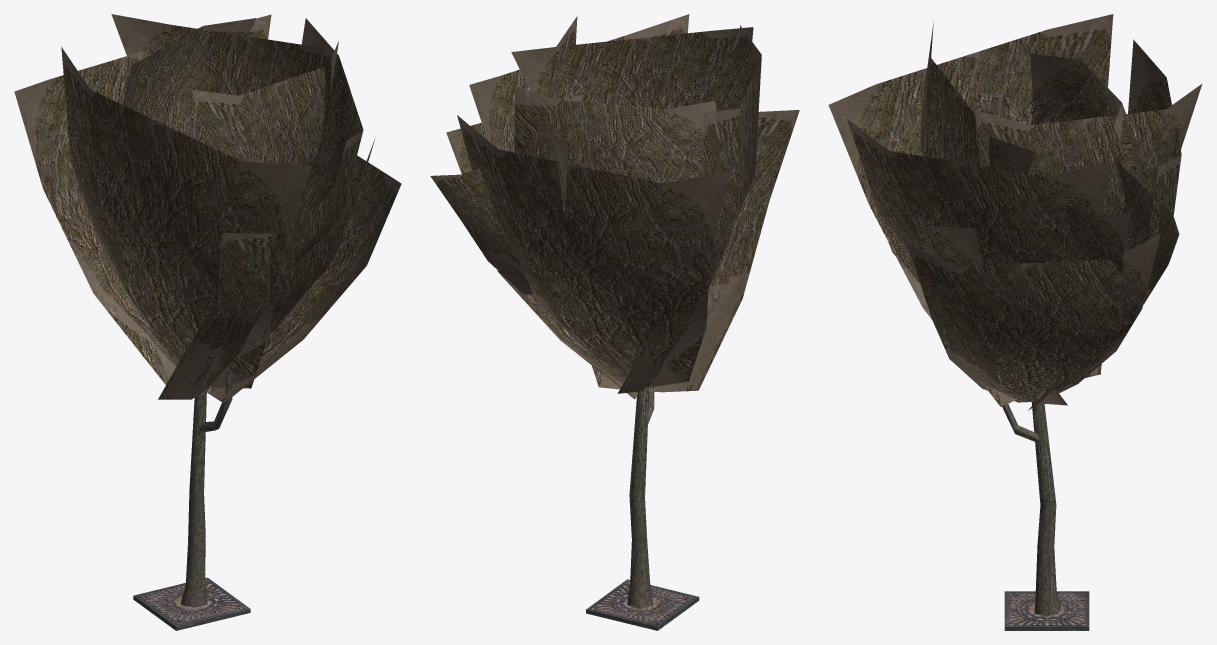
File: tree_deciduous_small.fbx
3 views of the same model, side by side, from view 1: azimuth 30°, elevation 25°; view 2: azimuth 150°, elevation 25°; view 3: azimuth 270°, elevation 25° (orthographic). The views are drawn at different scales.
Visible parts, largest first — view 1: mesh_0, mesh_1, mesh_2; view 2: mesh_0, mesh_1, mesh_2; view 3: mesh_0, mesh_1, mesh_2.
Boxes of the visible parts, <box> form: mesh_0: <box>14,14,401,403</box>; mesh_1: <box>181,371,232,607</box>; mesh_2: <box>133,577,250,630</box>; mesh_0: <box>430,14,799,399</box>; mesh_1: <box>627,387,654,608</box>; mesh_2: <box>586,579,699,630</box>; mesh_0: <box>828,14,1202,410</box>; mesh_1: <box>1002,401,1060,616</box>; mesh_2: <box>1004,591,1089,630</box>.
Bounding box in the file's own units: 396 × 735 × 441.
3 materials, 3 textured.
